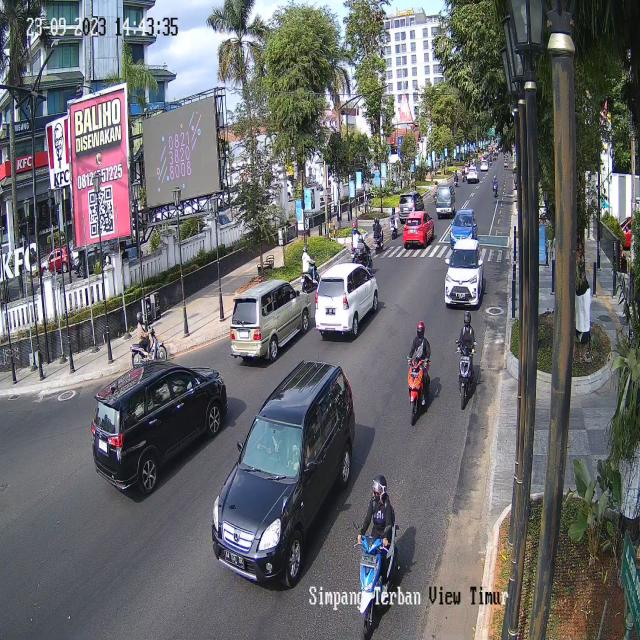car: (211, 357, 358, 590), (93, 356, 231, 500), (230, 280, 312, 364), (315, 260, 378, 340), (443, 235, 485, 309), (449, 208, 480, 256), (402, 211, 436, 249)
motorcycle: (354, 470, 402, 638), (404, 320, 434, 426), (129, 306, 168, 372), (456, 306, 476, 416), (300, 243, 320, 298), (372, 213, 383, 257)
